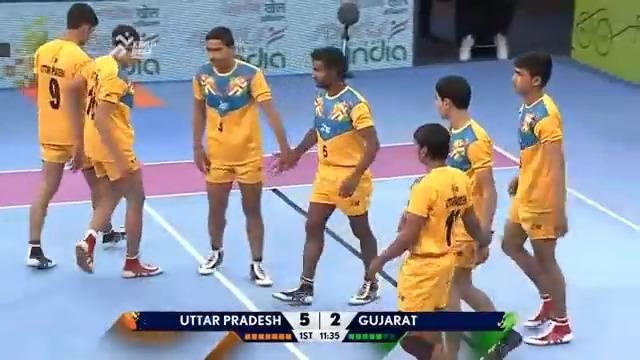Player: (366, 122, 492, 359), (270, 45, 381, 306), (190, 25, 291, 286), (25, 2, 115, 269), (74, 23, 163, 278), (500, 50, 573, 345)
referee: (453, 0, 516, 61)
